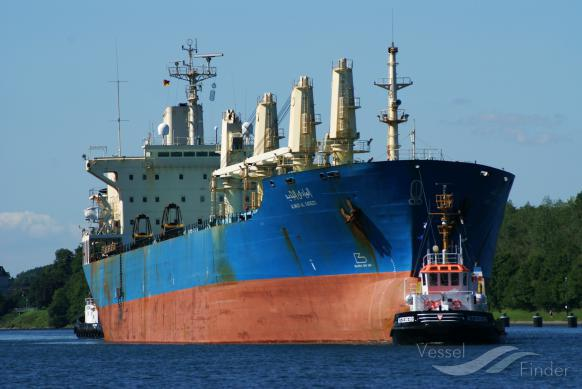OCR: (281, 188, 320, 215)
